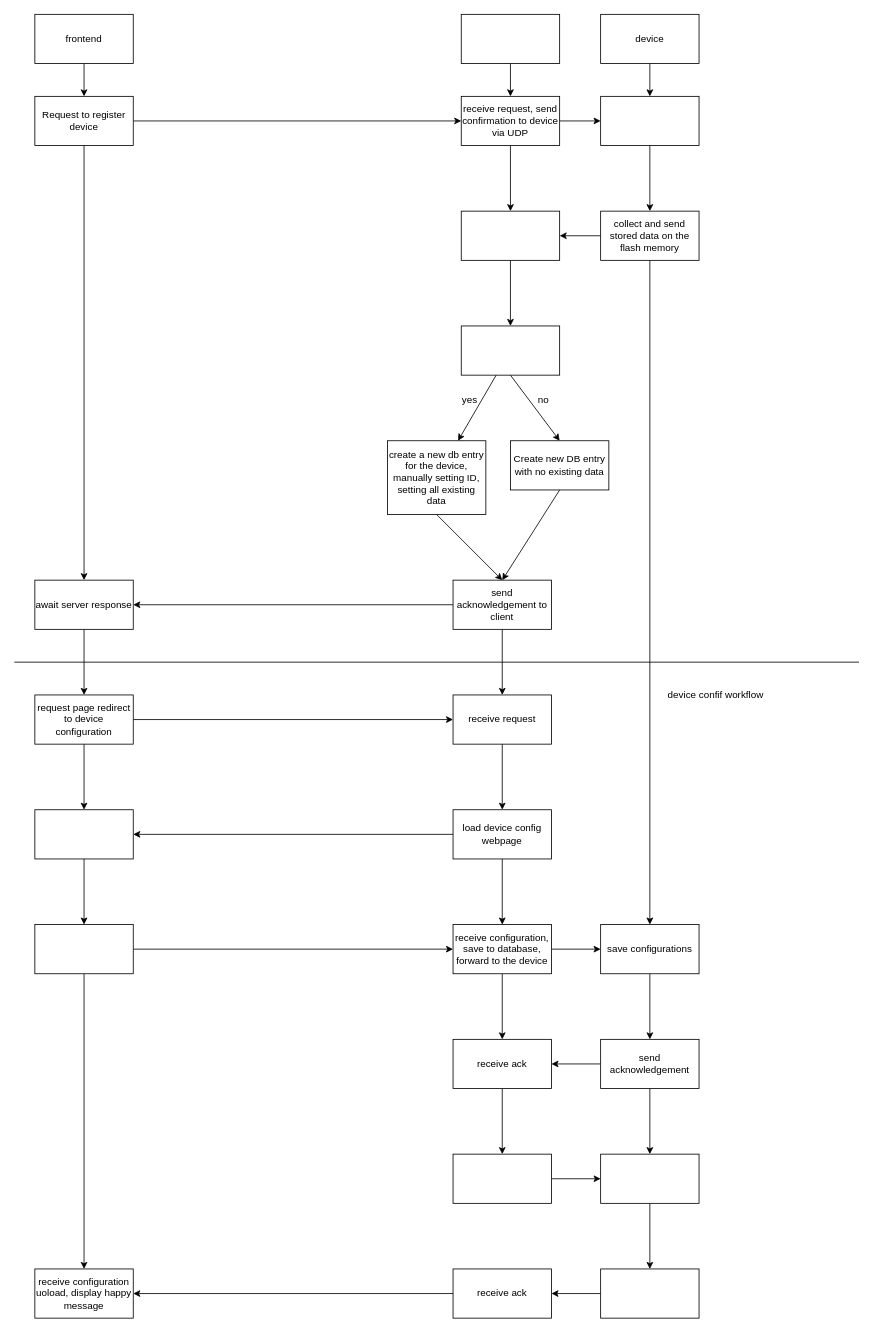
Some shapes in this 874 by 1333 pixel diagram are drawn without their labels. Each missing label, with the centre of its shape:
"backend" belongs at (510,39).
"Does the device know its own ID?" belongs at (510,350).
"receive configuration webpage" belongs at (83,834).
"receive loaded device data" belongs at (510,235).
"receive UDP confrimation, turn off UDP broadcast, switch to HTTPS" belongs at (649,121).
"send ack" belongs at (649,1293).
"send wakeup call" belongs at (501,1178).
"submit configuration" belongs at (83,949).
"wake up" belongs at (649,1178).
